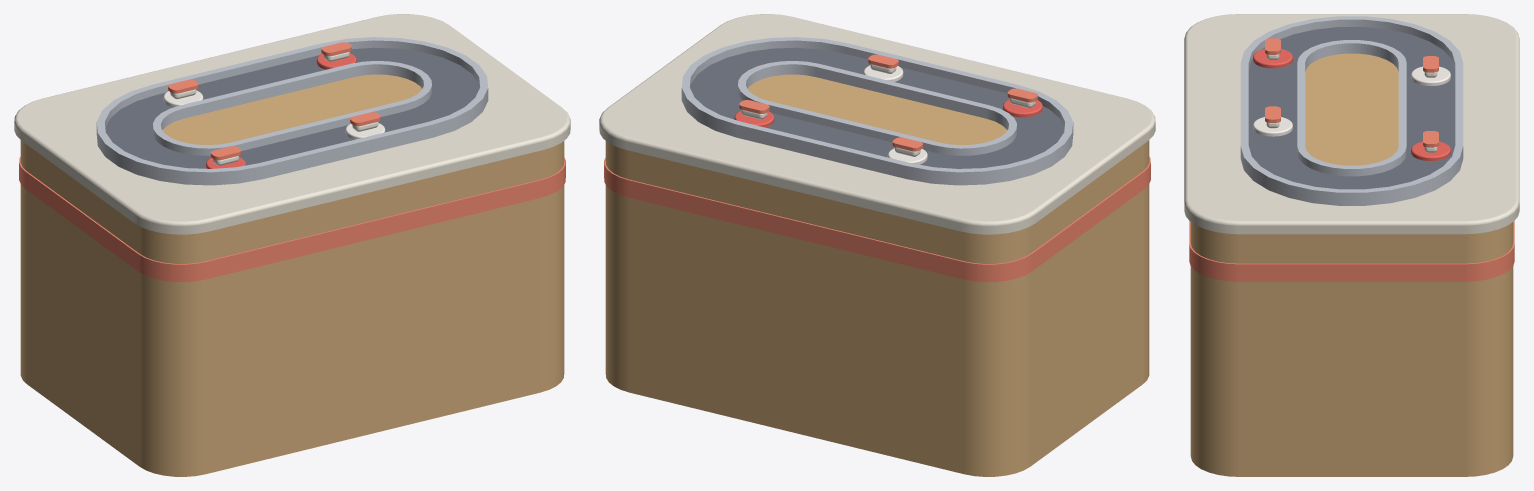
Rendered from SushiCounter.glb.
3 renders of one model, left to right at view 1: azimuth 30°, elevation 25°; view 2: azimuth 150°, elevation 25°; view 3: azimuth 270°, elevation 25°, orthographic.
Parts seen in each view (by area): view 1: sushiWood (×2), counterTop, metalLight, metalDark, sushiFish; view 2: sushiWood (×2), counterTop, metalLight, metalDark, sushiFish; view 3: sushiWood (×2), counterTop, metalDark, metalLight, sushiFish, awningRed (×2), awningWhite (×2).
Part boxes in pixels (x1=…): sushiWood (×2): x1=20, y1=74, x2=564, y2=476; counterTop: x1=14, y1=14, x2=570, y2=234; metalLight: x1=96, y1=37, x2=488, y2=185; metalDark: x1=105, y1=47, x2=479, y2=168; sushiFish: x1=19, y1=157, x2=565, y2=282; sushiWood (×2): x1=605, y1=74, x2=1149, y2=476; counterTop: x1=599, y1=14, x2=1155, y2=234; metalLight: x1=681, y1=37, x2=1073, y2=185; metalDark: x1=690, y1=47, x2=1064, y2=168; sushiFish: x1=604, y1=157, x2=1150, y2=282; sushiWood (×2): x1=1190, y1=53, x2=1513, y2=476; counterTop: x1=1184, y1=14, x2=1519, y2=234; metalDark: x1=1248, y1=27, x2=1455, y2=189; metalLight: x1=1240, y1=16, x2=1463, y2=205; sushiFish: x1=1189, y1=221, x2=1514, y2=281; awningRed (×2): x1=1253, y1=49, x2=1450, y2=160; awningWhite (×2): x1=1253, y1=66, x2=1450, y2=136.
Bounding box in the file's own units: 1.54 × 0.952 × 1.04.
